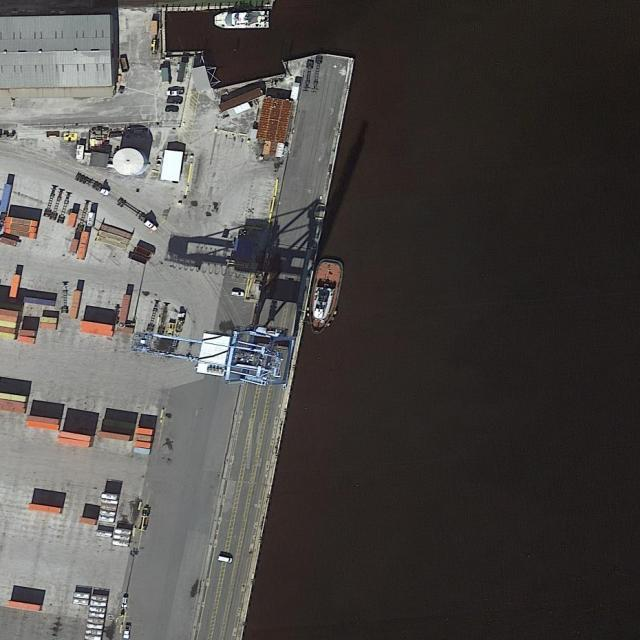Hovercraft: (303, 255, 345, 337)
